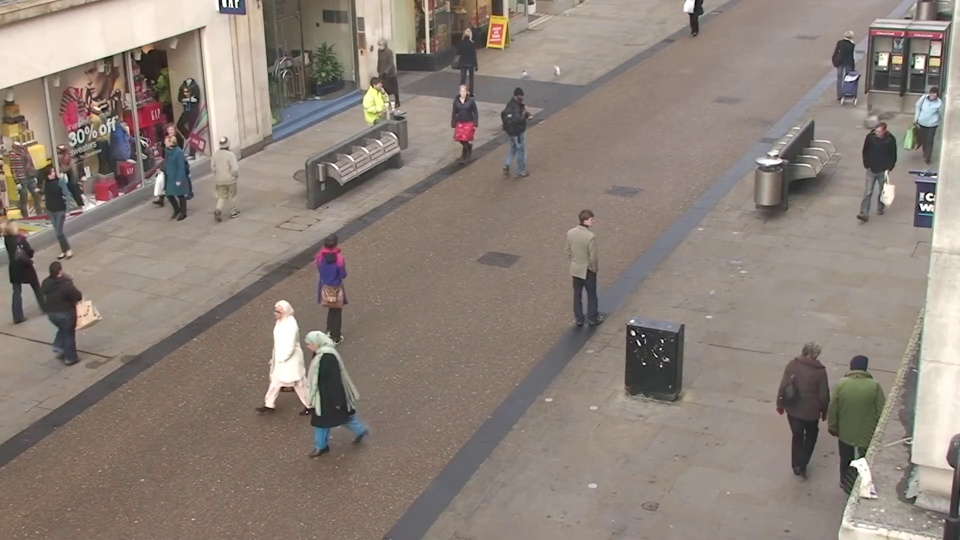pedestrian: (827, 339, 886, 496), (785, 327, 842, 479), (281, 324, 337, 472), (43, 249, 103, 378), (247, 292, 301, 432), (3, 212, 63, 332), (19, 166, 72, 273), (313, 224, 358, 348), (568, 204, 606, 325), (906, 86, 951, 179), (852, 123, 893, 223), (146, 136, 187, 234), (146, 121, 186, 215), (214, 127, 252, 224), (508, 83, 538, 170), (445, 82, 475, 168), (361, 74, 391, 157), (832, 28, 865, 103), (363, 38, 390, 111), (460, 22, 485, 92)
